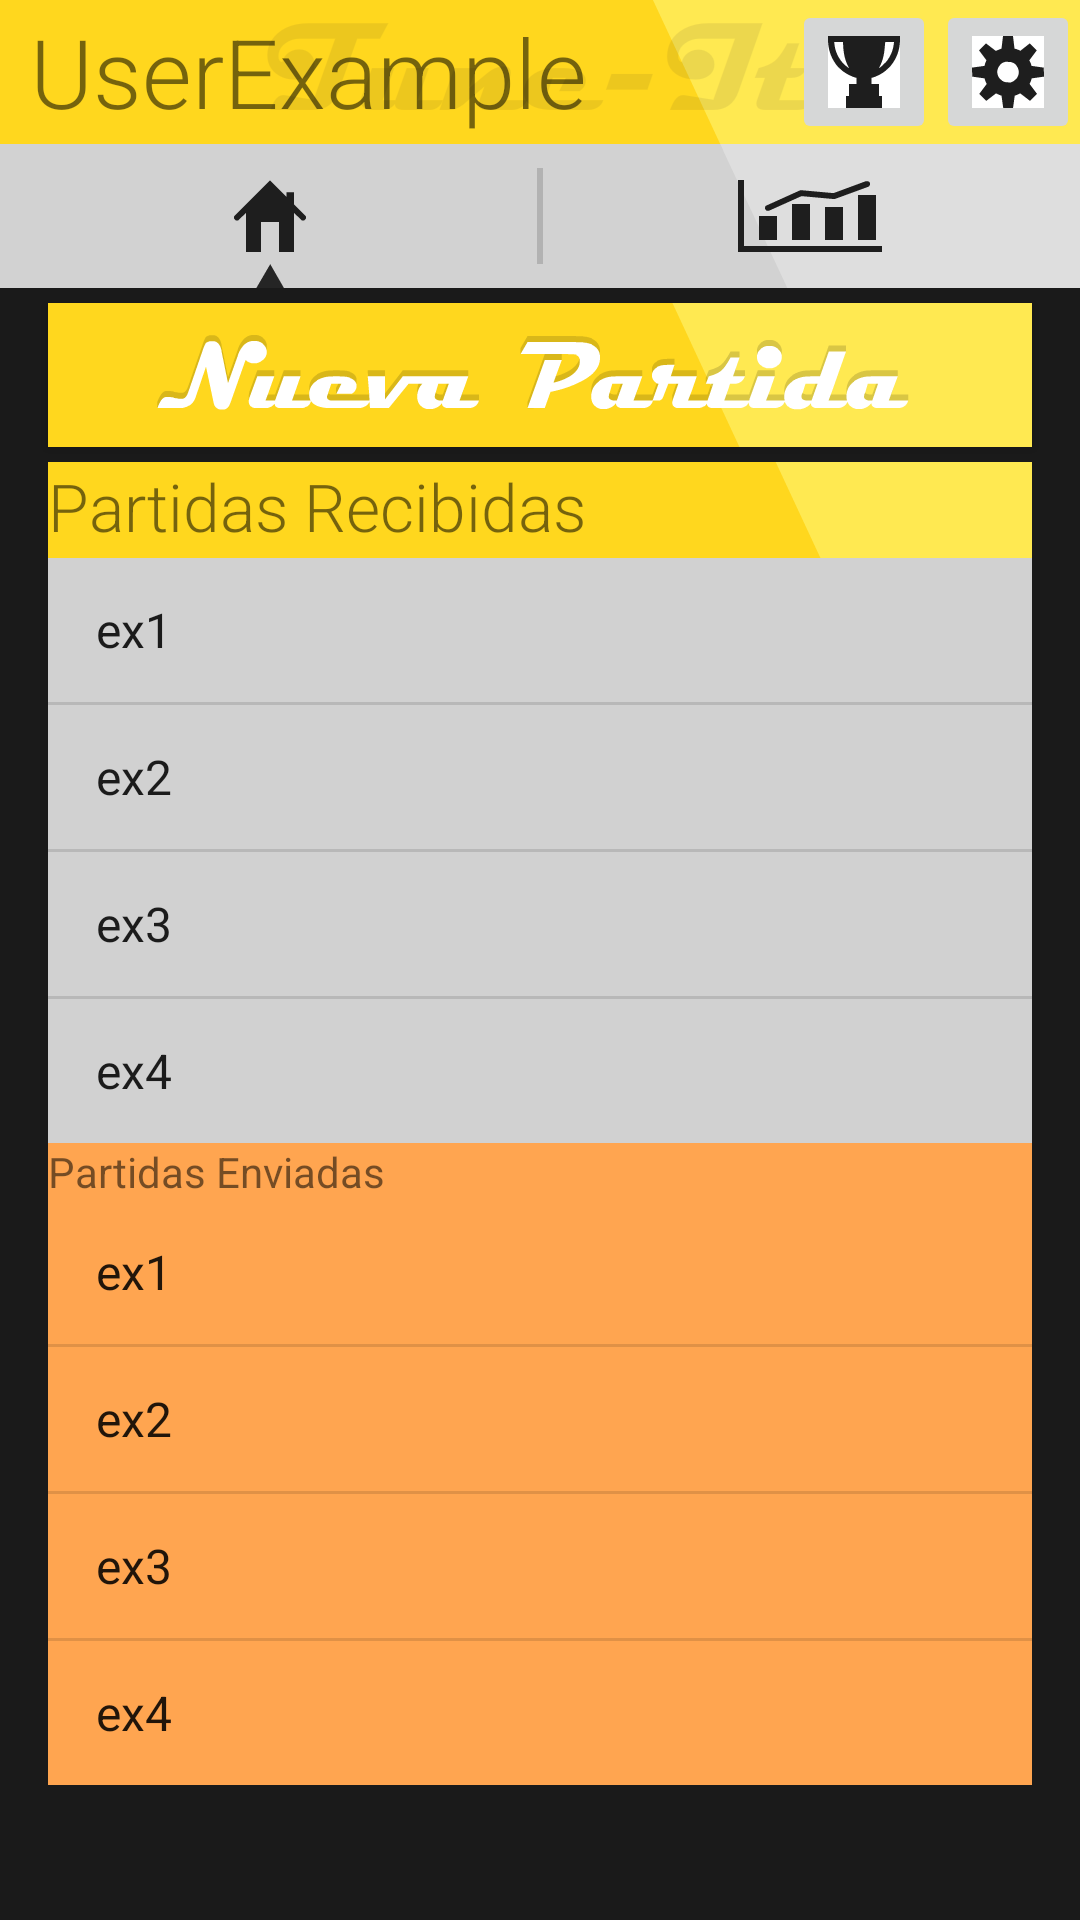

Where to tap for icons on this 1080 x 1920 app screen, as [x,y]:
configbtn: [1008,72]
trophybtn: [864,72]
